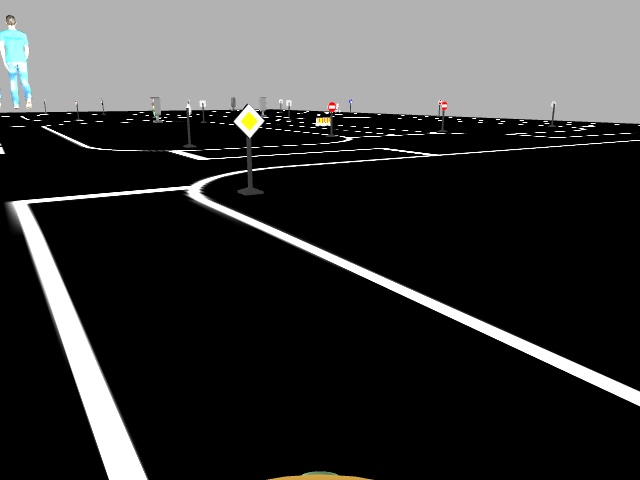Priority: (231, 103, 265, 136)
